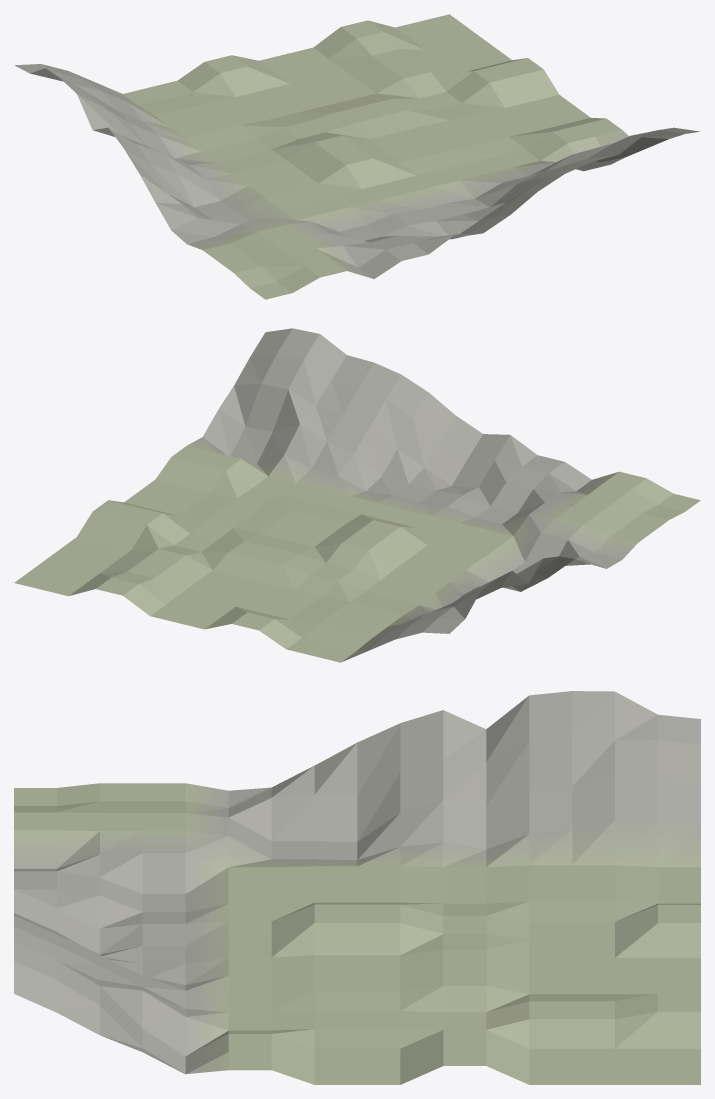
3 views of the same model, one above another, from view 1: azimuth 30°, elevation 25°; view 2: azimuth 150°, elevation 25°; view 3: azimuth 270°, elevation 25° (orthographic). The views are drawn at different scales.
Size of the model in its own units: 32 by 6.27 by 32.
